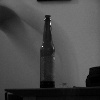beer: (36, 14, 59, 89)
